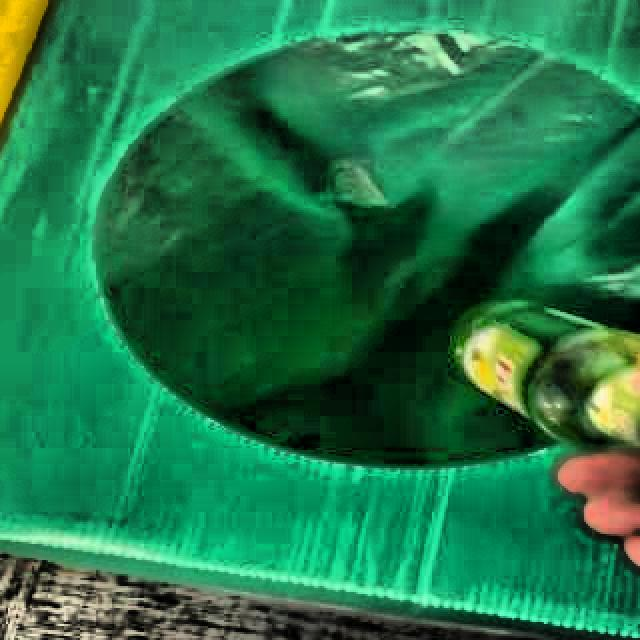glass: (456, 302, 640, 449)
